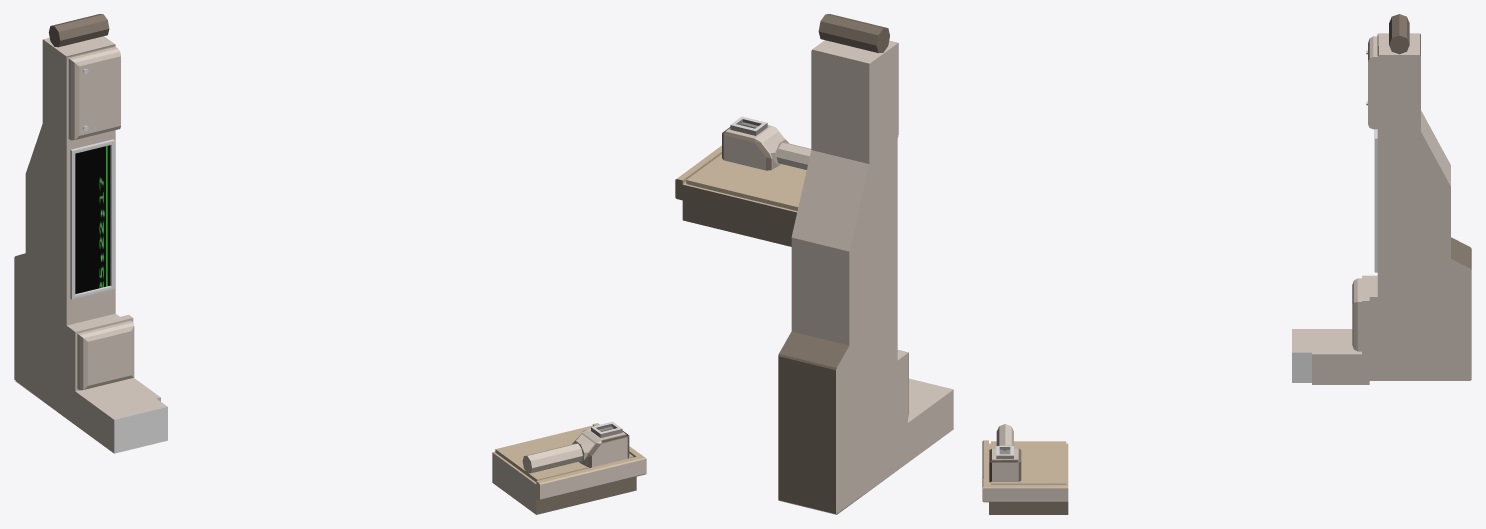
File: tile2.fbx
3 renders of one model, left to right at view 1: azimuth 30°, elevation 25°; view 2: azimuth 150°, elevation 25°; view 3: azimuth 270°, elevation 25°, orthographic. The views are drawn at different scales.
Visible parts, largest first — view 1: Tile2MainP2, Tile2MainP, PipelineP1; view 2: Tile2MainP2, Tile2MainP, PipelineP1; view 3: Tile2MainP2, Tile2MainP, PipelineP1.
Part boxes in pixels (box(x1,y1,x2,y2)): Tile2MainP2: box(14, 14, 167, 453); Tile2MainP: box(492, 423, 646, 514); PipelineP1: box(522, 421, 629, 473); Tile2MainP2: box(778, 14, 953, 514); Tile2MainP: box(675, 145, 806, 246); PipelineP1: box(722, 116, 811, 170); Tile2MainP2: box(1292, 14, 1471, 384); Tile2MainP: box(982, 440, 1068, 514); PipelineP1: box(989, 424, 1021, 482).
Bounding box in the file's own units: 173 × 176 × 226.
